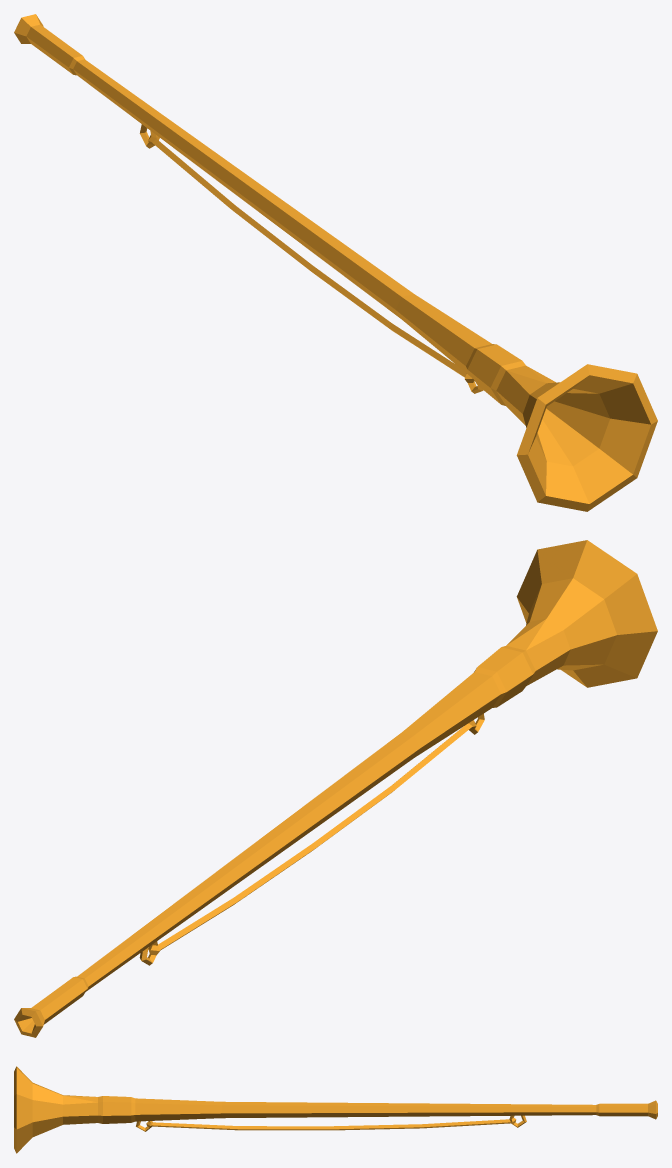
The model's file is SM_Trumpet_Fantasy.fbx.
3 views of the same model, one above another, from view 1: azimuth 30°, elevation 25°; view 2: azimuth 150°, elevation 25°; view 3: azimuth 270°, elevation 25° (orthographic). The views are drawn at different scales.
Parts seen in each view (by area): view 1: trumpet-fantasy; view 2: trumpet-fantasy; view 3: trumpet-fantasy.
Part boxes in pixels (box(x1,y1,x2,y2)): trumpet-fantasy: box(14, 14, 657, 511); trumpet-fantasy: box(14, 540, 657, 1037); trumpet-fantasy: box(14, 1066, 657, 1153).
Bounding box in the file's own units: 0.1266 × 0.1266 × 0.8736.
